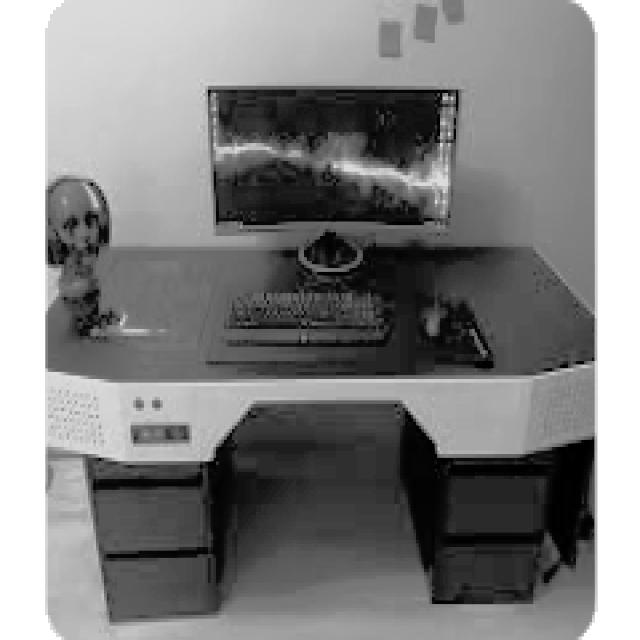table: (45, 240, 595, 629)
